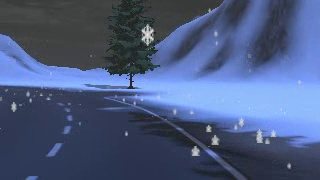Lane: (0, 86, 243, 179)
